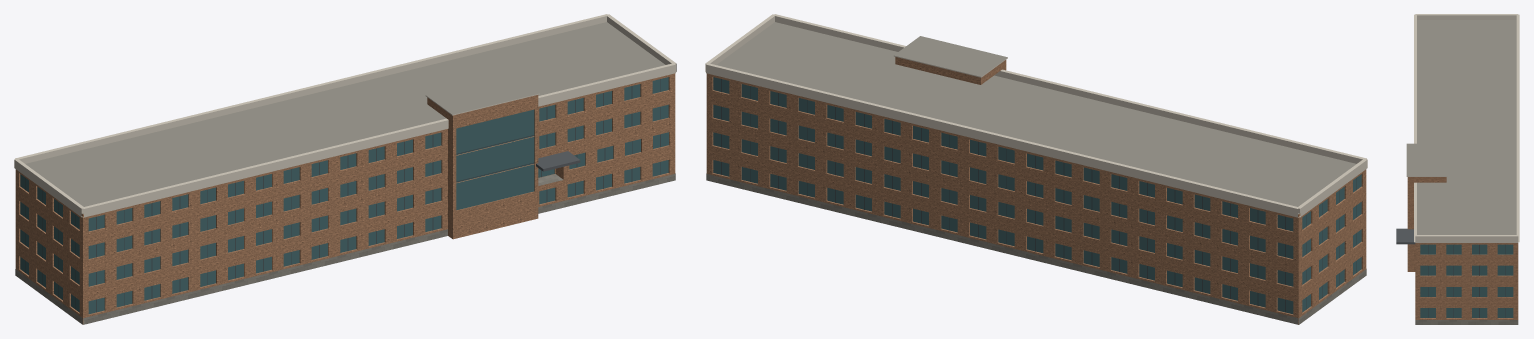
The picture shows the model from 3 angles, left to right: view 1: azimuth 30°, elevation 25°; view 2: azimuth 150°, elevation 25°; view 3: azimuth 270°, elevation 25°; orthographic projection. The views are drawn at different scales.
Parts seen in each view (by area): view 1: socialScience__wall, socialScience__roof, socialScience__glass, socialScience__trim, socialScience__base, socialScience__frame, socialScience__canopy; view 2: socialScience__wall, socialScience__roof, socialScience__glass, socialScience__trim, socialScience__base, socialScience__frame; view 3: socialScience__roof, socialScience__wall, socialScience__trim, socialScience__glass, socialScience__base, socialScience__canopy, socialScience__frame.
Part boxes in pixels (x1,y1,x2,y2): socialScience__wall: (15, 73, 675, 324); socialScience__roof: (25, 22, 665, 214); socialScience__glass: (20, 77, 668, 314); socialScience__trim: (14, 14, 676, 217); socialScience__base: (15, 173, 675, 324); socialScience__frame: (25, 79, 660, 312); socialScience__canopy: (536, 151, 580, 171); socialScience__wall: (706, 57, 1366, 324); socialScience__roof: (716, 22, 1356, 214); socialScience__glass: (713, 77, 1361, 314); socialScience__trim: (705, 14, 1367, 217); socialScience__base: (706, 173, 1366, 324); socialScience__frame: (721, 79, 1356, 312); socialScience__roof: (1406, 20, 1516, 234); socialScience__wall: (1407, 177, 1518, 319); socialScience__trim: (1406, 14, 1519, 242); socialScience__glass: (1420, 244, 1513, 317); socialScience__base: (1415, 320, 1518, 324); socialScience__canopy: (1396, 228, 1415, 244); socialScience__frame: (1428, 244, 1505, 317).
Size of the model in its own units: 83.48 by 16.82 by 19.59.
8 materials, 2 textured.
